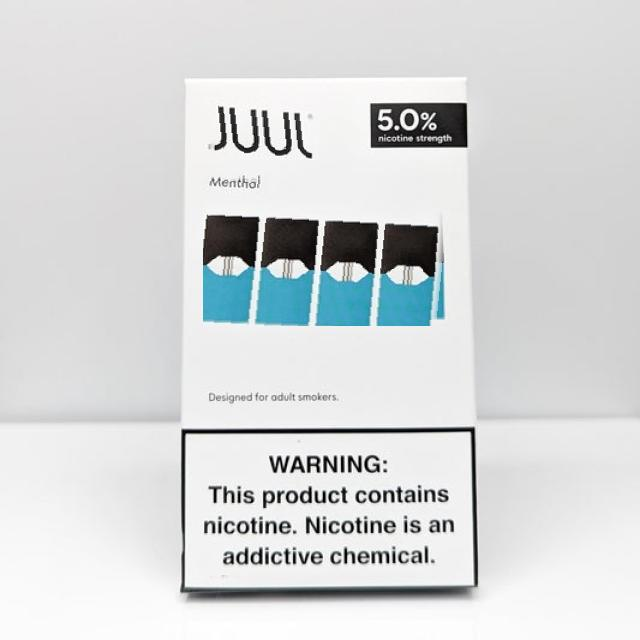Vapes: (203, 175, 450, 326), (201, 87, 319, 160)
